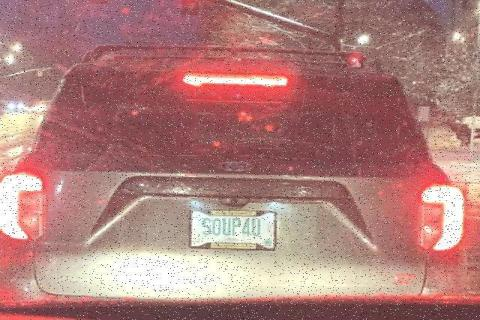LicensePlate: (187, 207, 275, 251)
